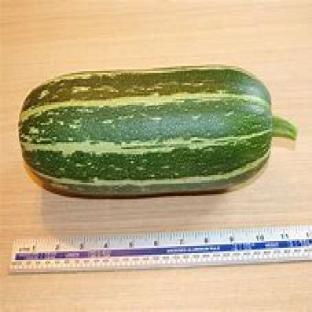Zucchini: (20, 66, 295, 195)
